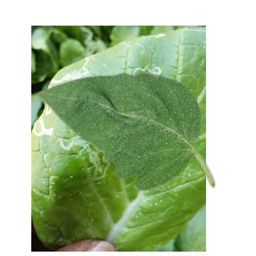liriomyza: (60, 135, 111, 181), (48, 57, 89, 82), (33, 113, 55, 137), (133, 65, 162, 76)
